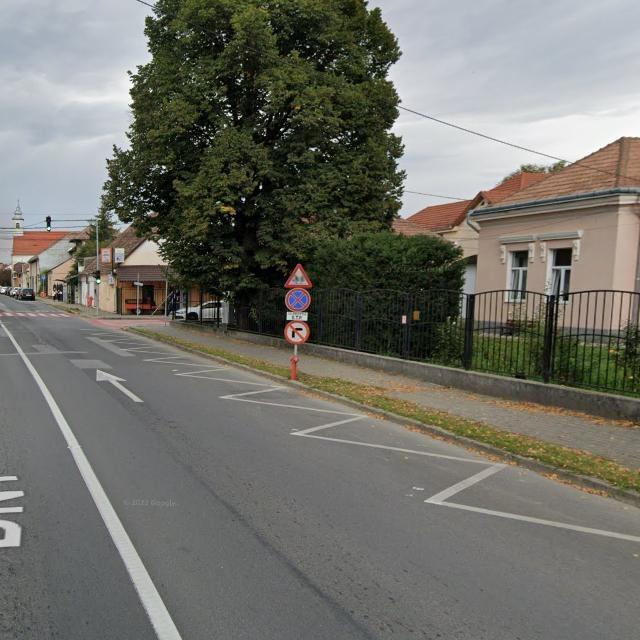forb_waiting: (285, 288, 311, 312)
